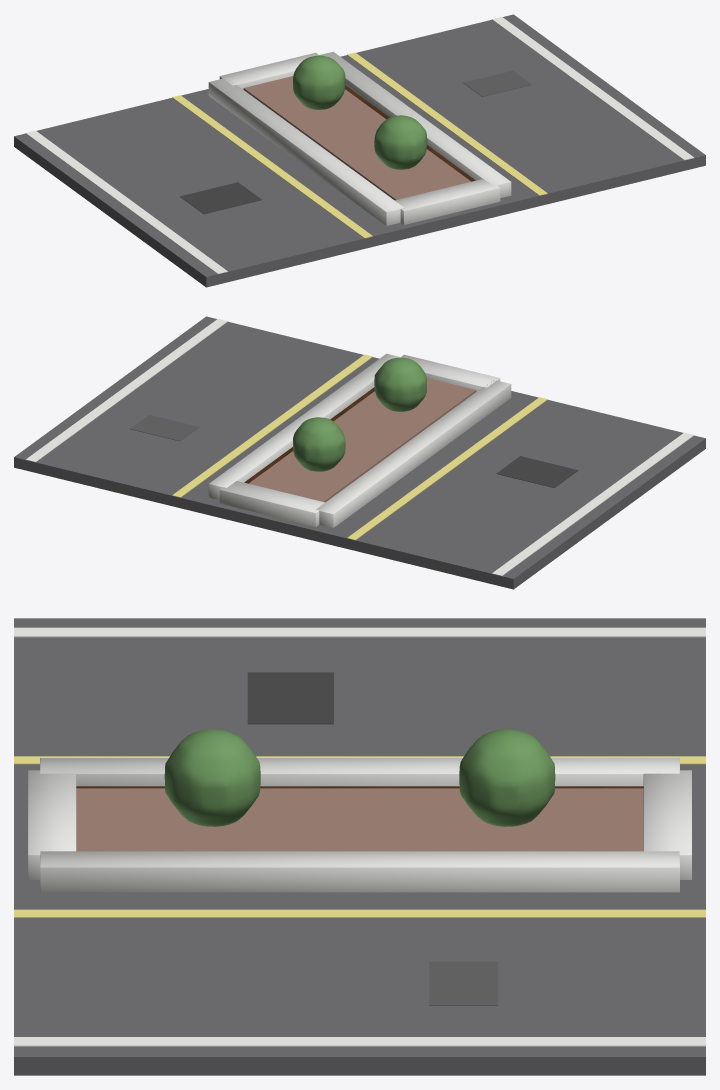
File: StreetMedian_Planted.fbx
The picture shows the model from 3 angles, top to bottom: view 1: azimuth 30°, elevation 25°; view 2: azimuth 150°, elevation 25°; view 3: azimuth 270°, elevation 25°; orthographic projection. The views are drawn at different scales.
Visible parts, largest first — view 1: LOD0; view 2: LOD0; view 3: LOD0.
Part boxes in pixels (x1,y1,x2,y2): LOD0: (14,14,705,287); LOD0: (14,316,705,589); LOD0: (14,618,705,1075).
Size of what is drawn, in the model's own units: 600 by 78.21 by 400.
